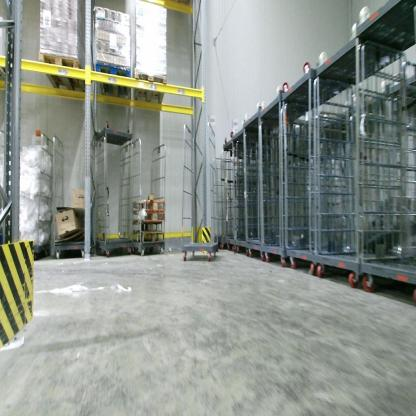pallet: (35, 49, 90, 98), (94, 59, 132, 105), (134, 63, 169, 108), (127, 230, 171, 248), (131, 195, 168, 213), (130, 206, 165, 225), (127, 219, 165, 233)
